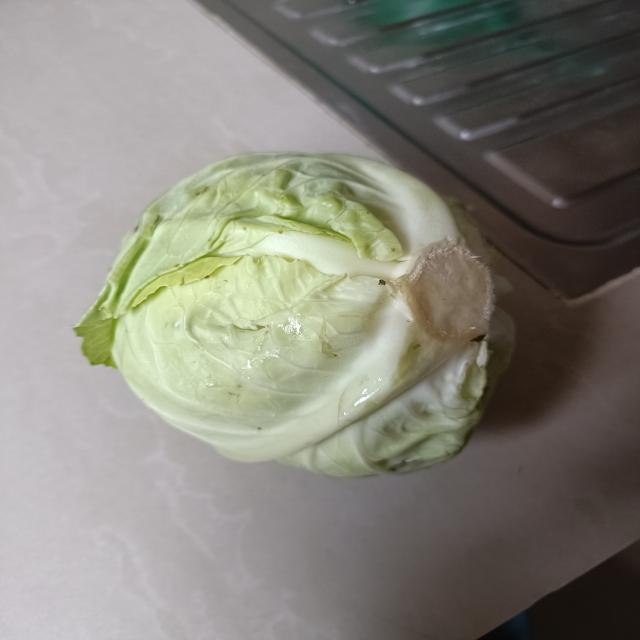cabbage: (65, 146, 528, 488)
